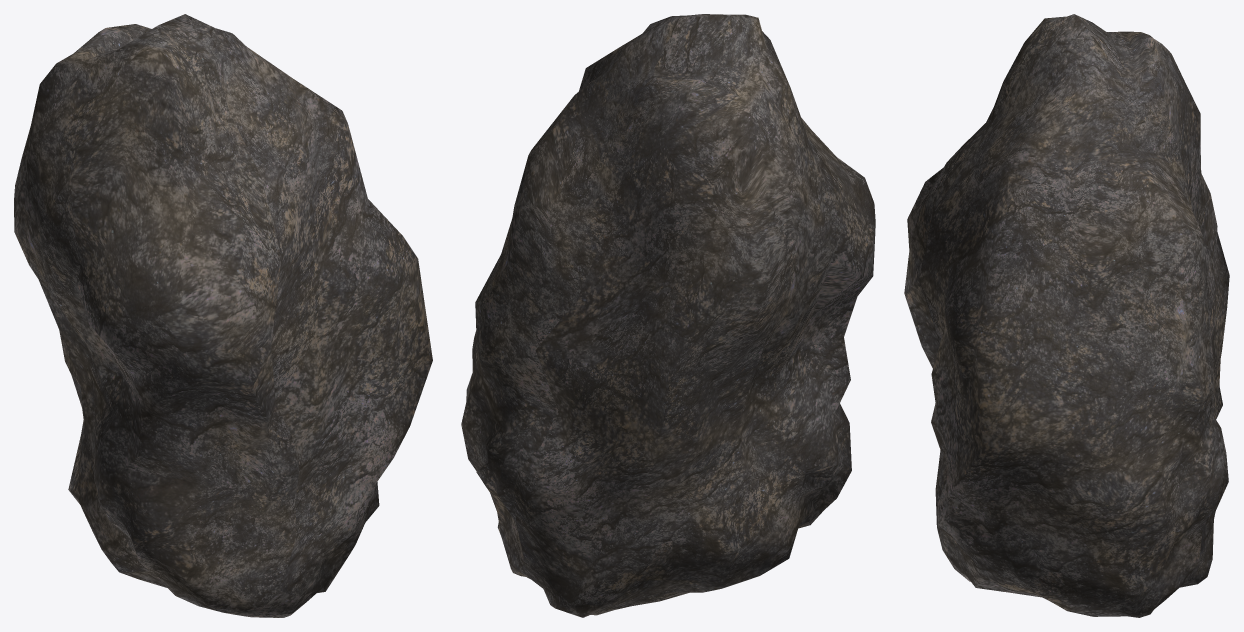
File: Rock03.dae
3 views of the same model, side by side, from view 1: azimuth 30°, elevation 25°; view 2: azimuth 150°, elevation 25°; view 3: azimuth 270°, elevation 25° (orthographic). The views are drawn at different scales.
Parts seen in each view (by area): view 1: Rock03; view 2: Rock03; view 3: Rock03.
Part boxes in pixels (left/top/right/bottom): Rock03: left=14, top=14, right=432, bottom=617; Rock03: left=461, top=14, right=875, bottom=617; Rock03: left=904, top=14, right=1229, bottom=617.
Size of the model in its own units: 6048 by 5332 by 9908.
Materials: 1 (1 with a texture image).
